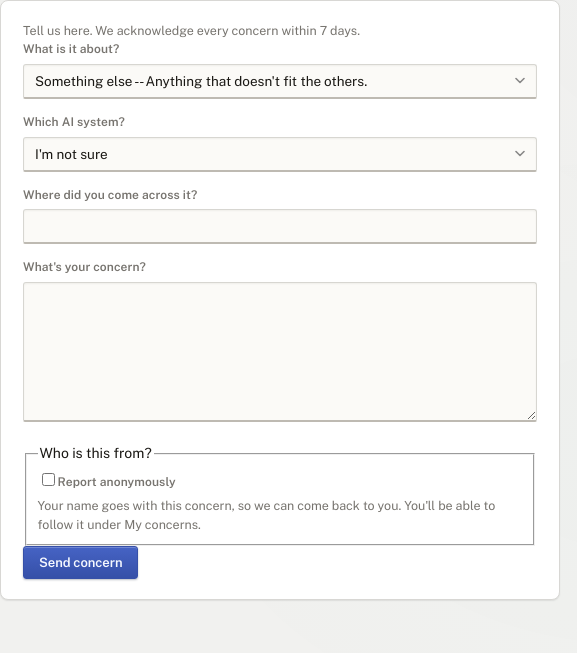
it: ReportConcernForm › asks for more than a few words
This screenshot has width=577, height=653.
Type "too short" into the text box labelled "What's your concern?" at (280, 352), box [23,282,537,422]
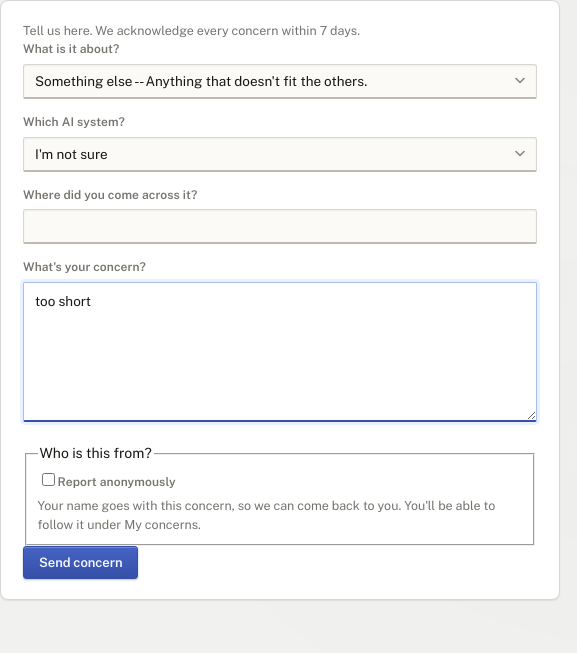
Click the button "Send concern" at (81, 562), box [23,546,138,579]
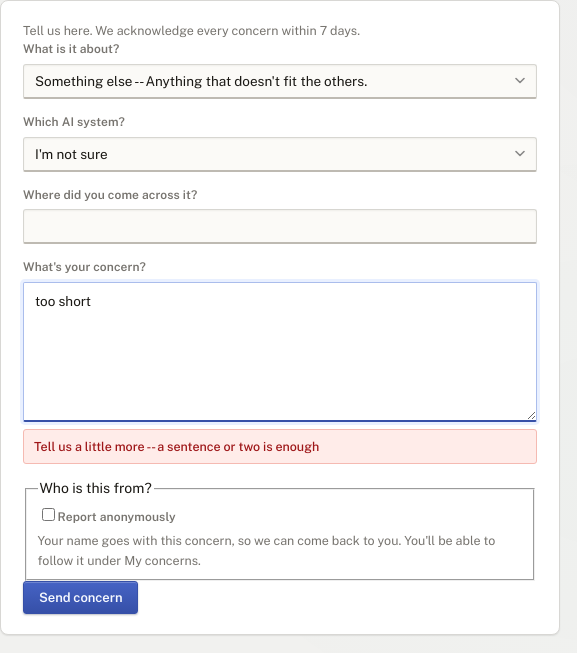
Expected: the text "Tell us a little more -- a sentence or two is enough" is shown, [23,429,537,464]
